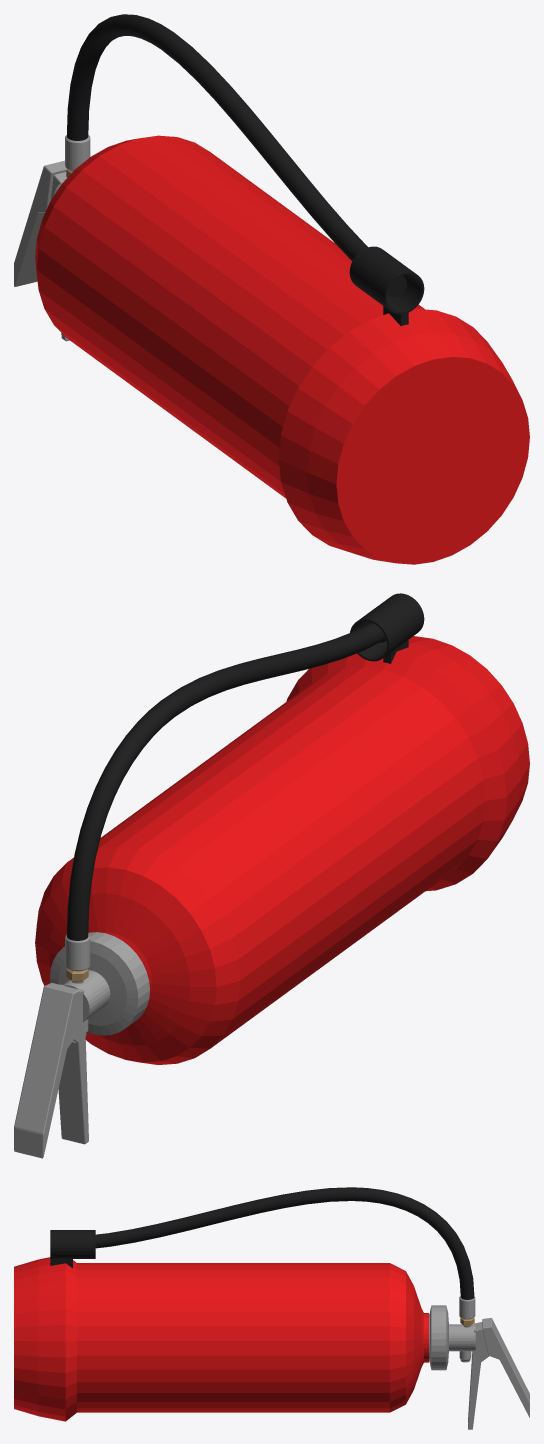
The model's file is Estintore v4.fbx.
The picture shows the model from 3 angles, top to bottom: view 1: azimuth 30°, elevation 25°; view 2: azimuth 150°, elevation 25°; view 3: azimuth 270°, elevation 25°; orthographic projection. The views are drawn at different scales.
Parts seen in each view (by area): view 1: Corpo, Tubo, Cylinder.001, Maniglia sopra, Innesto tubo; view 2: Corpo, Tubo, Maniglia sopra, Rubinetto, Plane.001, Cylinder.001, Innesto tubo; view 3: Corpo, Tubo, Rubinetto, Cylinder.001, Maniglia sopra, Plane.001, Innesto tubo.
Boxes of the visible parts, left/top/right/bottom form: Corpo: left=35, top=135, right=529, bottom=564; Tubo: left=66, top=14, right=406, bottom=297; Cylinder.001: left=349, top=246, right=424, bottom=325; Maniglia sopra: left=14, top=160, right=66, bottom=286; Innesto tubo: left=65, top=135, right=90, bottom=171; Corpo: left=35, top=636, right=529, bottom=1064; Tubo: left=66, top=622, right=386, bottom=940; Maniglia sopra: left=14, top=983, right=80, bottom=1158; Rubinetto: left=50, top=932, right=149, bottom=1035; Plane.001: left=58, top=984, right=88, bottom=1144; Cylinder.001: left=350, top=593, right=424, bottom=663; Innesto tubo: left=65, top=934, right=90, bottom=983; Corpo: left=14, top=1257, right=428, bottom=1421; Tubo: left=95, top=1187, right=474, bottom=1299; Rubinetto: left=429, top=1305, right=475, bottom=1370; Cylinder.001: left=50, top=1230, right=95, bottom=1268; Maniglia sopra: left=482, top=1318, right=529, bottom=1417; Plane.001: left=468, top=1322, right=488, bottom=1429; Innesto tubo: left=459, top=1296, right=475, bottom=1327.
Size of the model in its own units: 27.6 by 43.24 by 84.87.
